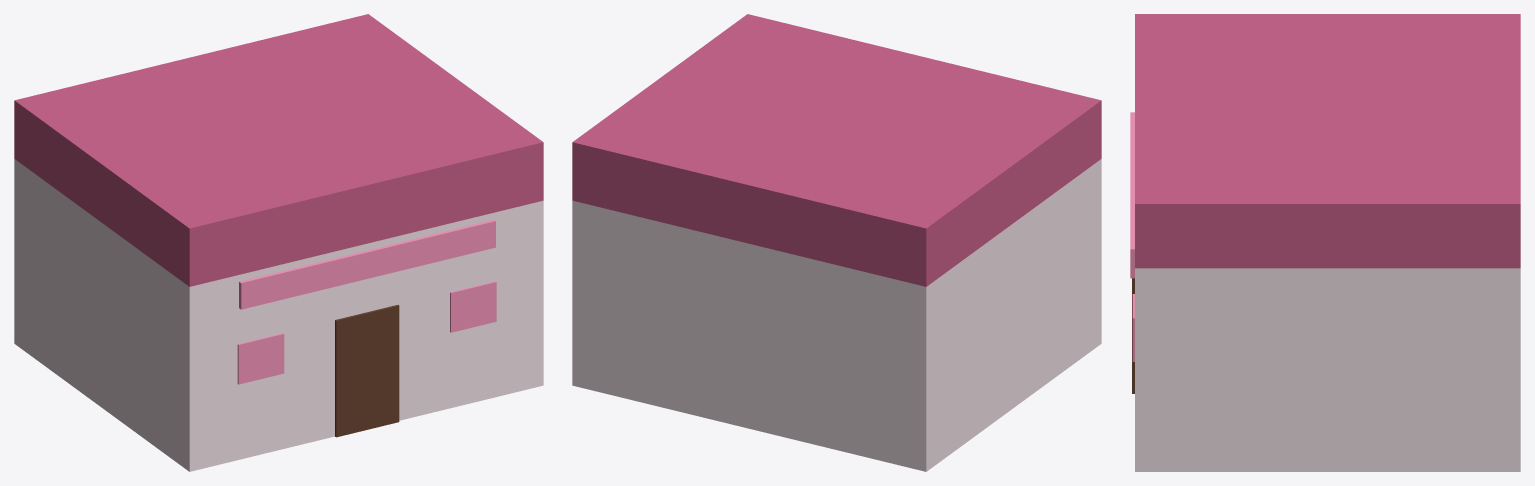
Rendered from gedung_salon.fbx.
The picture shows the model from 3 angles, left to right: view 1: azimuth 30°, elevation 25°; view 2: azimuth 150°, elevation 25°; view 3: azimuth 270°, elevation 25°; orthographic projection. The views are drawn at different scales.
Visible parts, largest first — view 1: gedung_salon; view 2: gedung_salon; view 3: gedung_salon.
Boxes of the visible parts, <box> form: gedung_salon: <box>14,14,543,471</box>; gedung_salon: <box>572,14,1101,471</box>; gedung_salon: <box>1130,14,1520,471</box>.
Size of the model in its own units: 700 by 460 by 607.
1 material, 1 textured.
